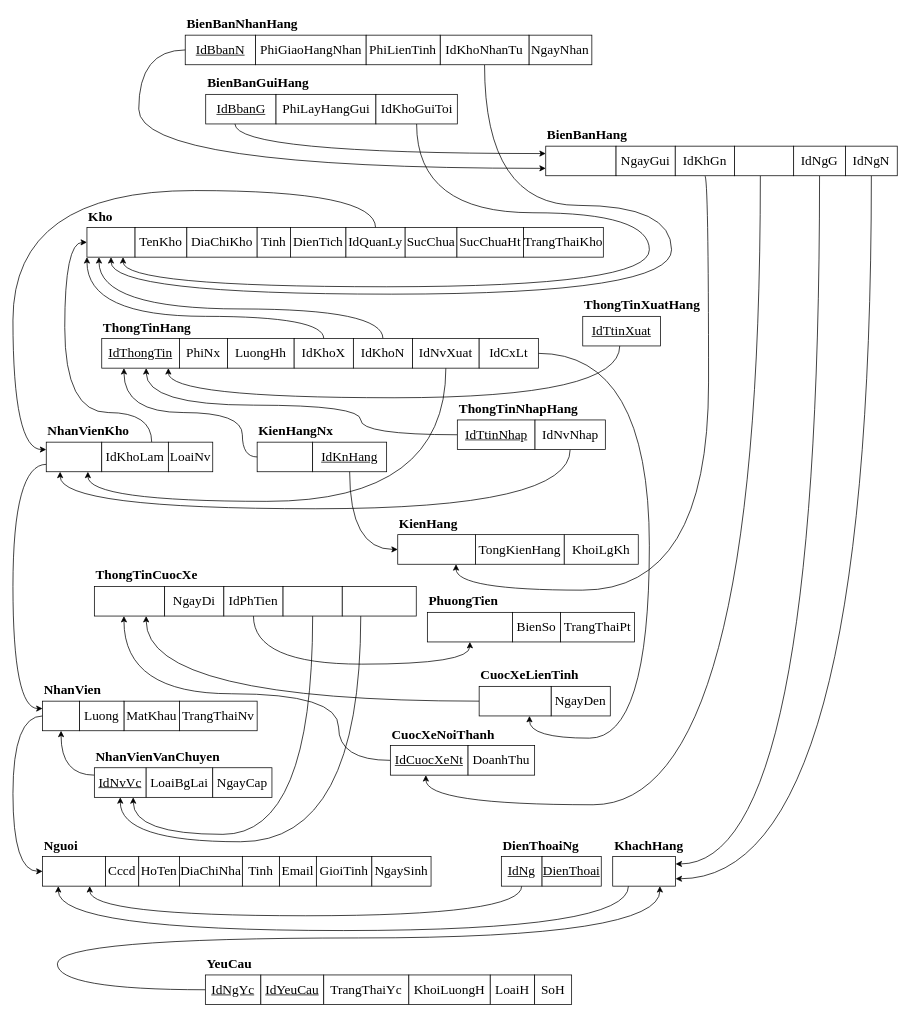
Image size: 910x1018. Some labels were removed from this diagram. The shapes that lost their labels are listed below. From the top down, each one's centre as x and y in pixels, then its label:
At point 580,160: "IdBienBan".
At point 764,160: "IdCxNt".
At point 110,242: "IdKho".
At point 74,456: "IdNvKho".
At point 284,456: "IdTtin".
At point 436,549: "IdKienHang".
At point 129,601: "IdCuocXe".
At point 312,601: "IdNgLai".
At point 379,601: "IdNgPhuLai".
At point 469,627: "IdPhuongTien".
At point 61,715: "IdNv".
At point 514,701: "IdCuocXeLt".
At point 73,871: "IdNguoi".
At point 644,871: "IdKhH".
